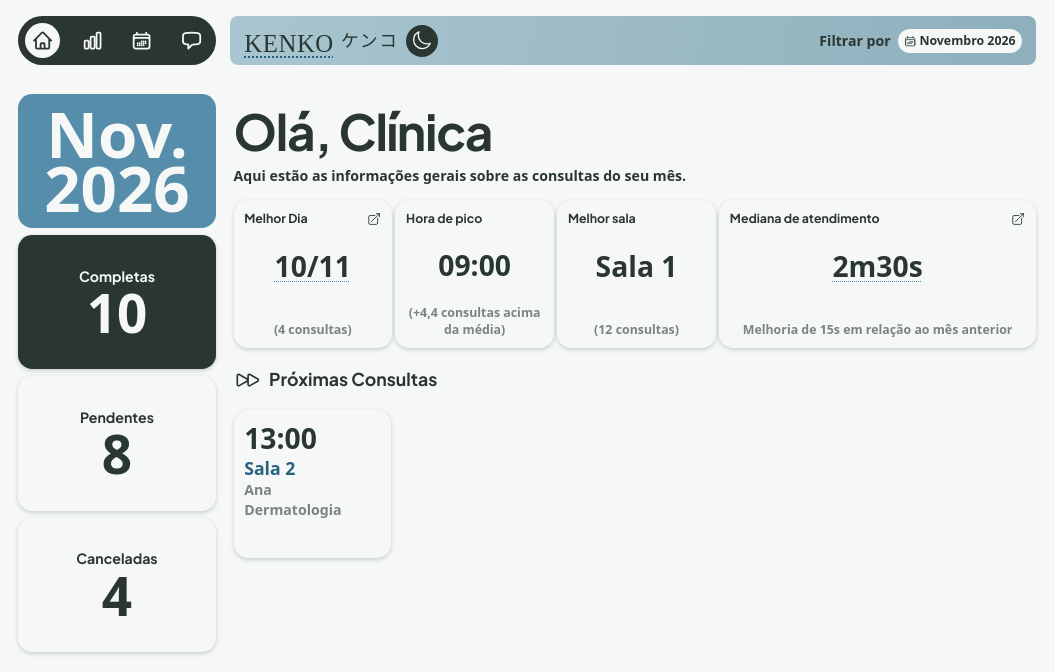
Test case: navega pelo card Mediana de atendimento
Click the link "Mediana de atendimento" at point(878, 274), box [719,200,1036,348]
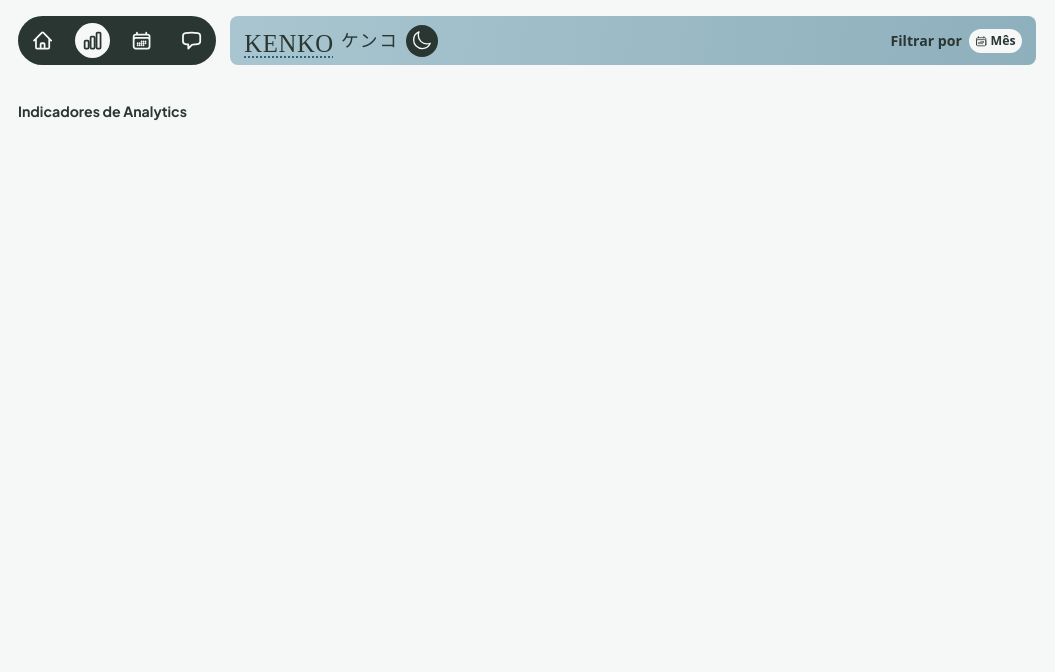
Result: the heading "Indicadores de Analytics" is shown at [18,102,187,120]
